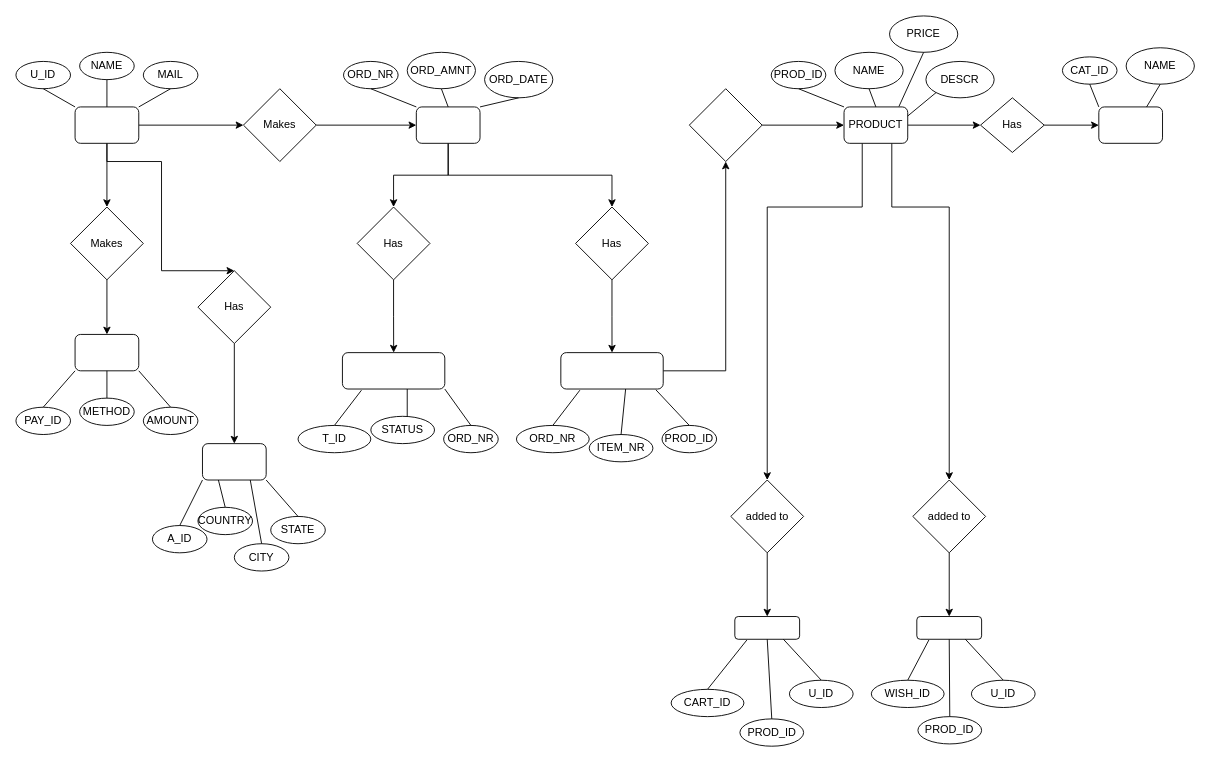
This 1210x763 diagram has some shape labels left out. Each missing label, with the centre of its shape:
ADDRESS: (x=234, y=461)
CART: (x=767, y=627)
CATEGORY: (x=1130, y=124)
contains: (x=725, y=125)
ORDER: (x=447, y=124)
ORDERITEMS: (x=611, y=370)
PAYMENT: (x=106, y=352)
TRACKINGDET: (x=393, y=370)
USER: (x=106, y=124)
WISHLIST: (x=949, y=627)
